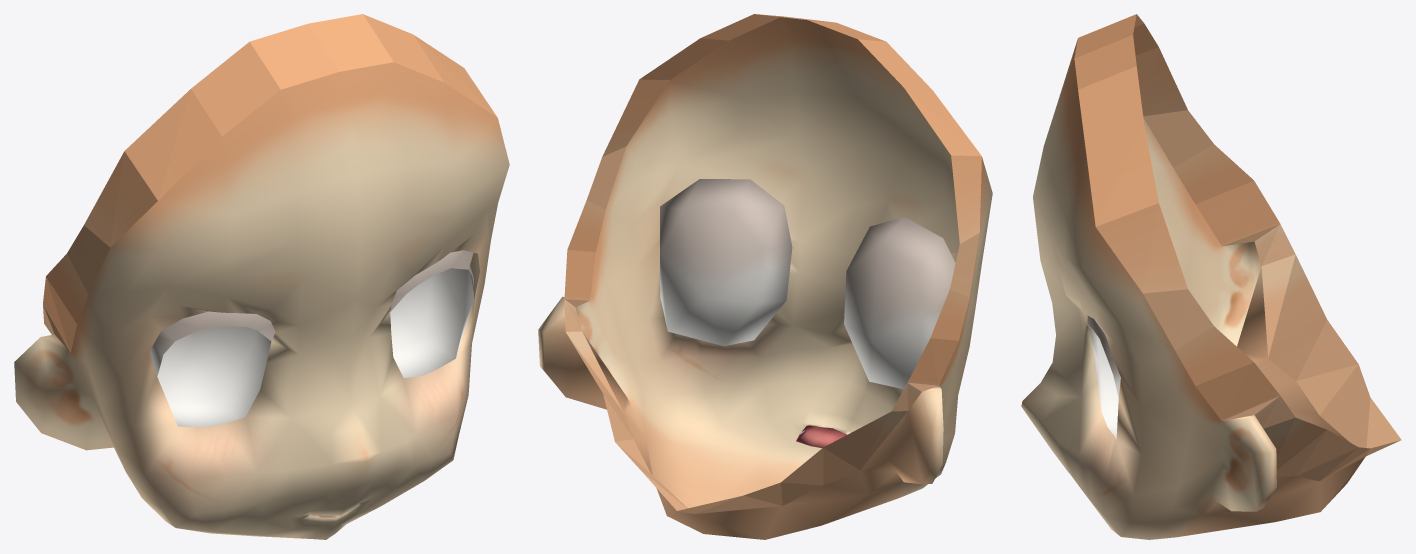
Rendered from zhanshi_lian.FBX.
3 renders of one model, left to right at view 1: azimuth 30°, elevation 25°; view 2: azimuth 150°, elevation 25°; view 3: azimuth 270°, elevation 25°, orthographic. The views are drawn at different scales.
Visible parts, largest first — view 1: zhanshi_lian; view 2: zhanshi_lian; view 3: zhanshi_lian.
Boxes of the visible parts, left/top/right/bottom form: zhanshi_lian: left=14, top=14, right=509, bottom=539; zhanshi_lian: left=538, top=14, right=992, bottom=539; zhanshi_lian: left=1021, top=14, right=1401, bottom=539.
Size of the model in its own units: 27.07 by 29.59 by 21.45.
Materials: 1 (1 with a texture image).
